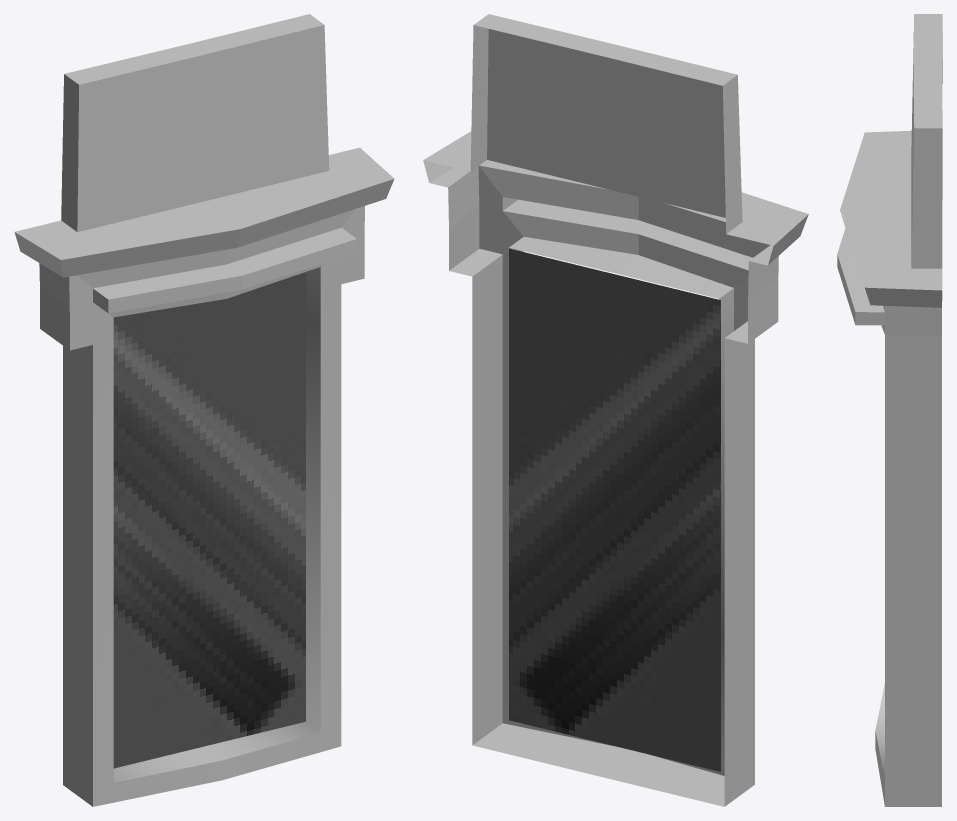
File: window3.FBX
3 renders of one model, left to right at view 1: azimuth 30°, elevation 25°; view 2: azimuth 150°, elevation 25°; view 3: azimuth 270°, elevation 25°, orthographic. The views are drawn at different scales.
Visible parts, largest first — view 1: frame, glass; view 2: frame, glass; view 3: frame.
Boxes of the visible parts, left/top/right/bottom form: frame: left=14, top=14, right=394, bottom=806; glass: left=113, top=272, right=305, bottom=768; frame: left=423, top=14, right=808, bottom=806; glass: left=509, top=248, right=720, bottom=771; frame: left=837, top=14, right=942, bottom=806.
Bounding box in the file's own units: 1.24 × 2.44 × 0.3446.
